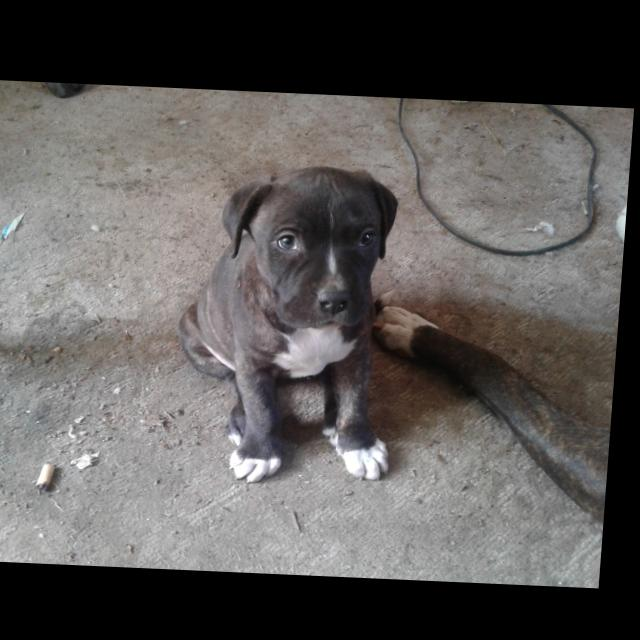am_pit_bull_terrier: (174, 158, 448, 488)
